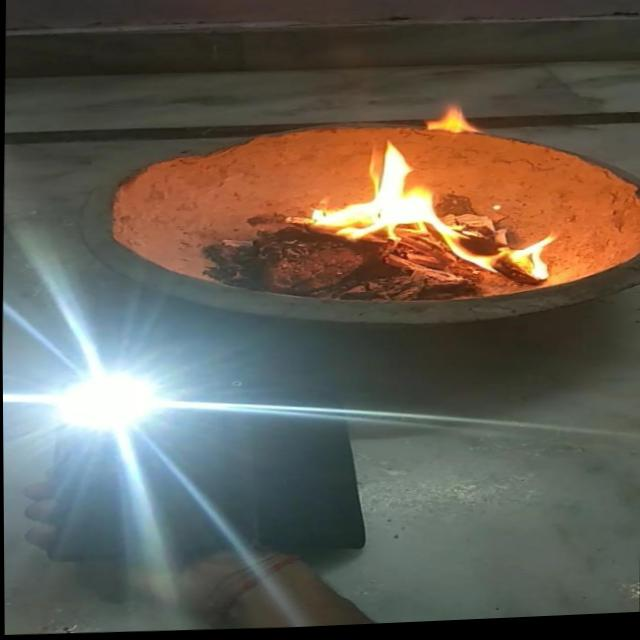fire: (288, 134, 566, 296), (406, 103, 491, 140)
